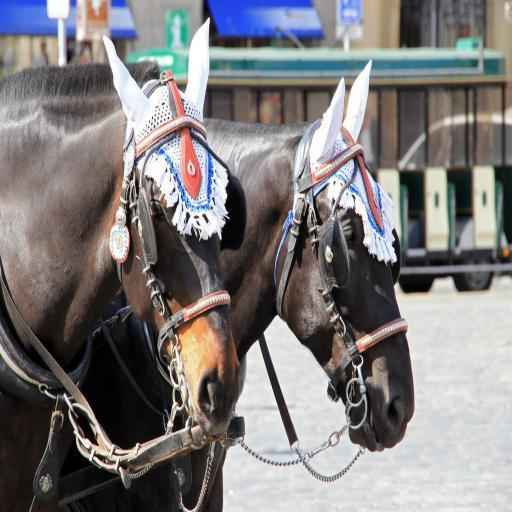horse: (56, 59, 416, 512), (0, 14, 242, 512)
